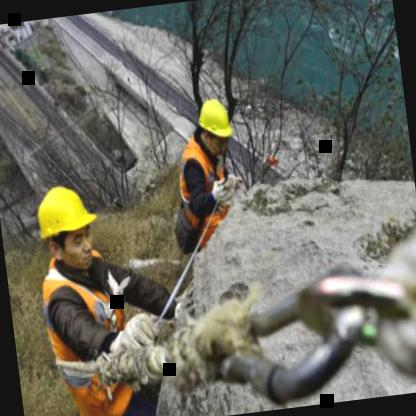helmet: (35, 176, 106, 274), (192, 93, 236, 161)
